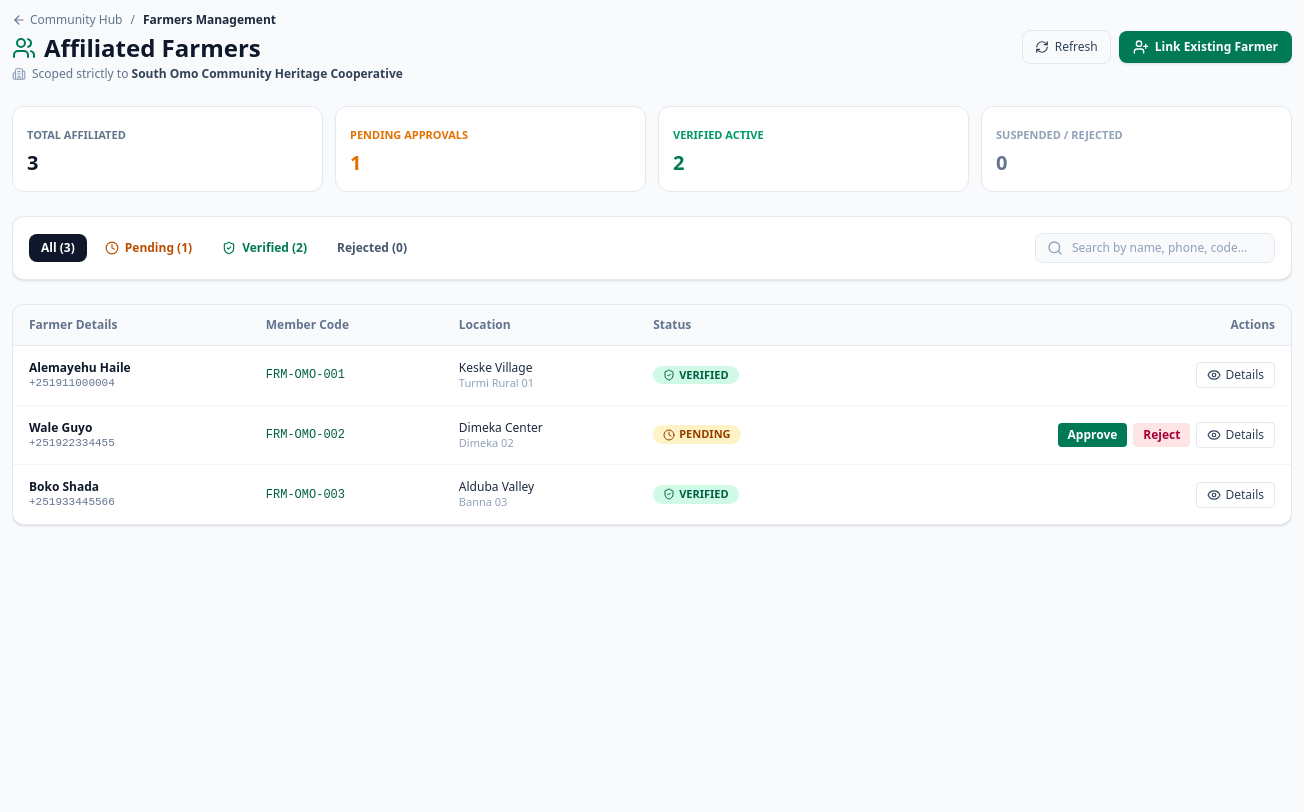
Scenario: Farmers Management & Enterprise Isolation (F-802) › allows approving a pending farmer
Note: Wale Guyo has ID 'farmer-uuid-002' and status PENDING
What coordinates should you click on to do the following:
click the button with test id "approve-farmer-farmer-uuid-002"
I would click on:
 (1092, 435)
Its box is [1058, 423, 1127, 447].
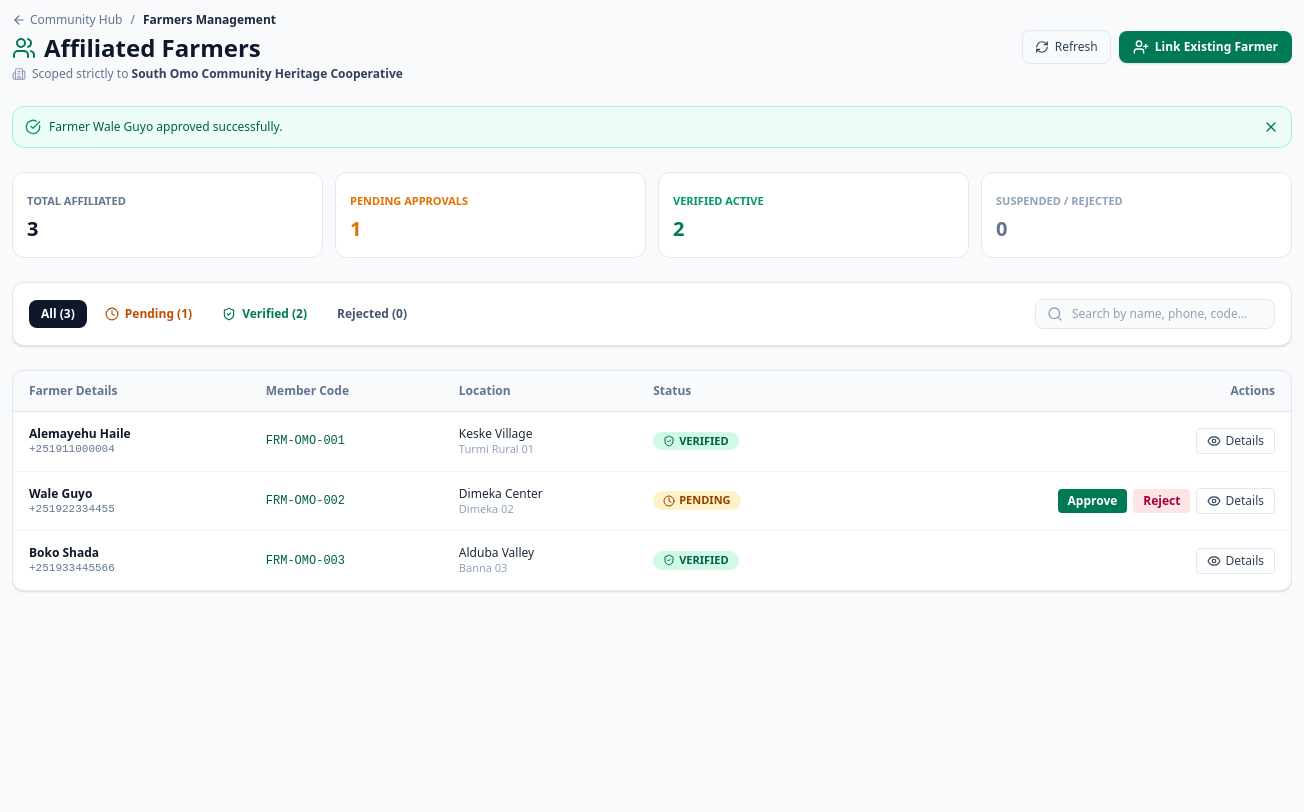
Expected: the text "Farmer Wale Guyo approved successfully." is shown, [49, 119, 282, 135]
